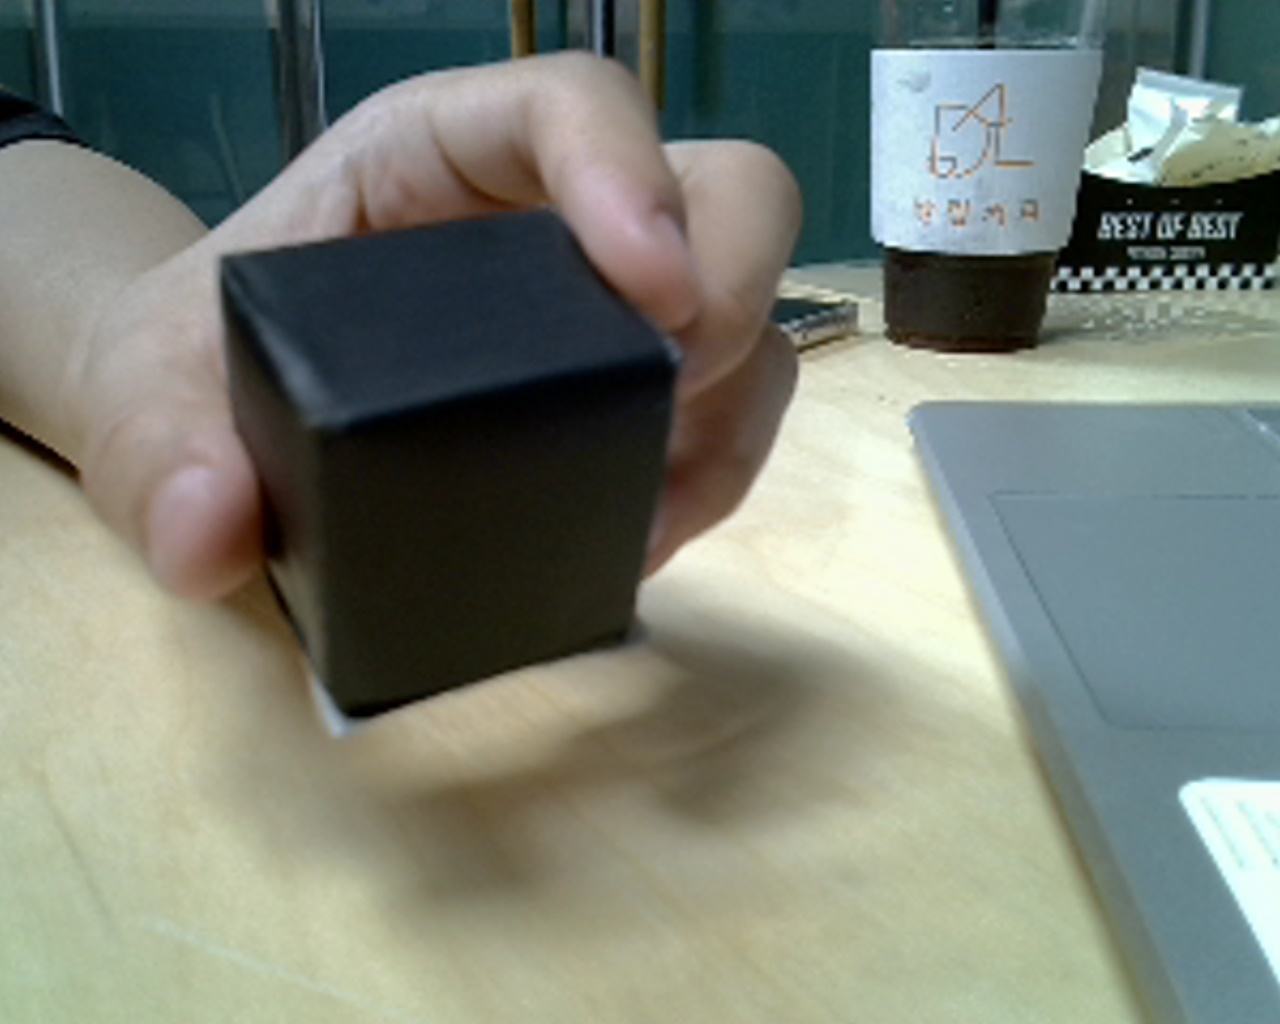blackbox: (176, 153, 708, 762)
